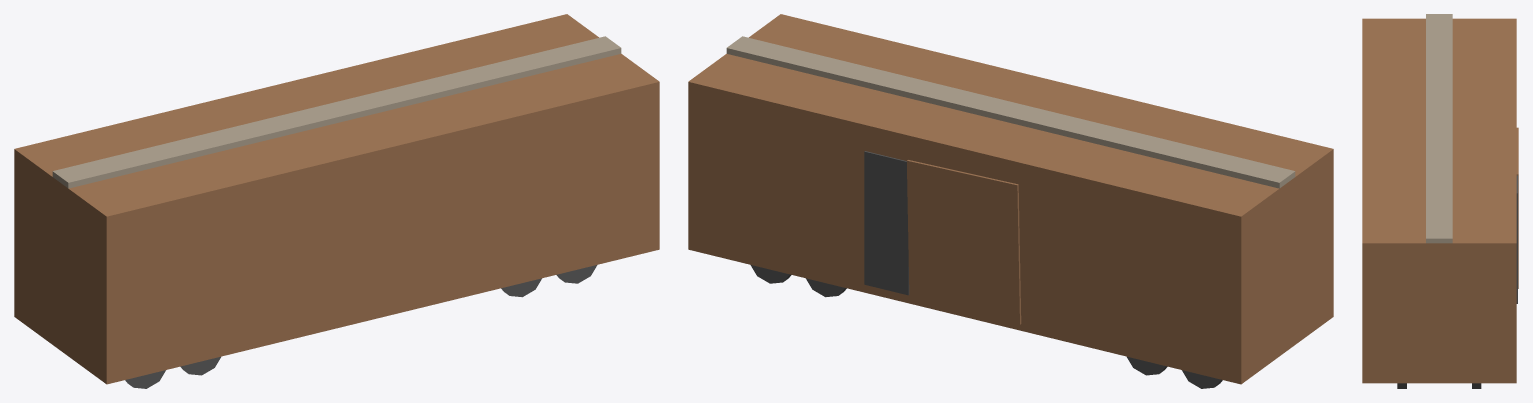
The model's file is DerelictBoxcar.glb.
The picture shows the model from 3 angles, left to right: view 1: azimuth 30°, elevation 25°; view 2: azimuth 150°, elevation 25°; view 3: azimuth 270°, elevation 25°; orthographic projection. The views are drawn at different scales.
Visible parts, largest first — view 1: Car body, Roof walk; view 2: Car body, Sliding door, Roof walk, Door gap; view 3: Car body, Roof walk, Sliding door, Door gap.
Boxes of the visible parts, left/top/right/bottom form: Car body: left=14, top=14, right=659, bottom=384; Roof walk: left=52, top=36, right=621, bottom=188; Car body: left=688, top=14, right=1333, bottom=384; Sliding door: left=906, top=160, right=1021, bottom=324; Roof walk: left=726, top=36, right=1295, bottom=188; Door gap: left=864, top=151, right=909, bottom=295; Car body: left=1362, top=18, right=1516, bottom=383; Roof walk: left=1426, top=14, right=1452, bottom=243; Sliding door: left=1516, top=127, right=1518, bottom=288; Door gap: left=1516, top=175, right=1517, bottom=303.
Size of the model in its own units: 10 by 3.6 by 2.94.
